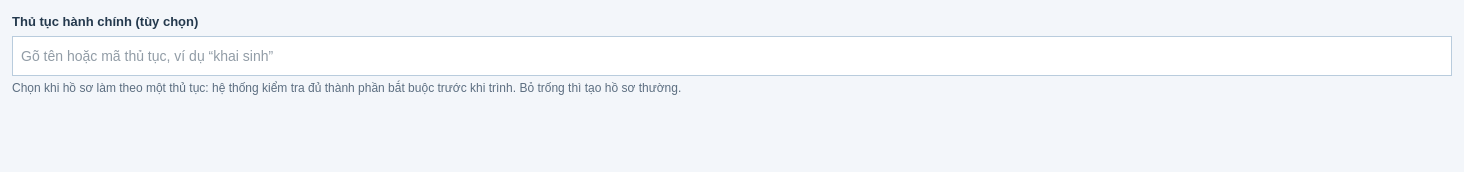
ProcedurePicker › lỗi từ máy chủ hiện ngay dưới ô, không làm mất ô tìm
Step 1. Type "khai" into the dropdown → (732, 56), box [12,36,1452,76]
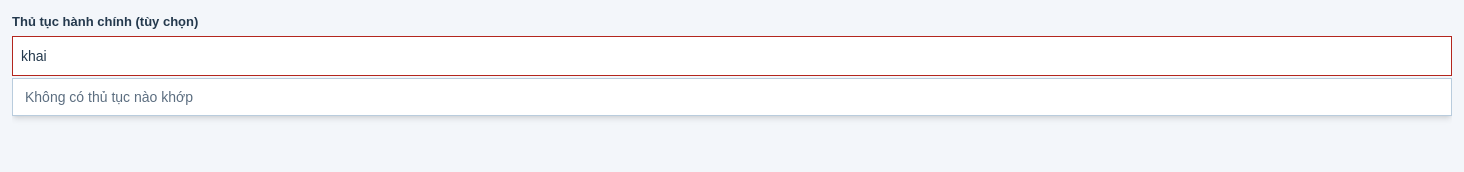
Result: the text "Chưa tìm được thủ tục. Thử lại sau ít giây." is shown at [12,101,238,115]
